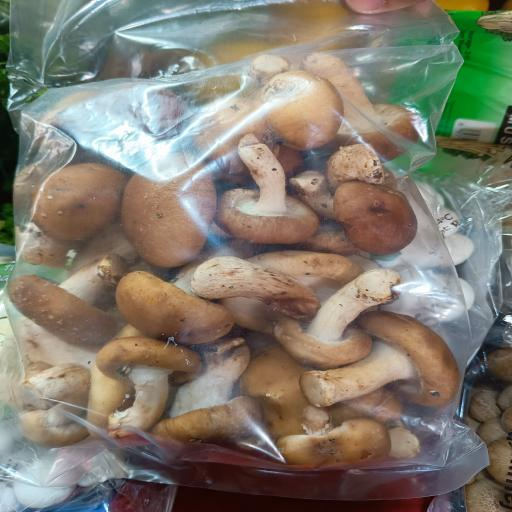Shiitake Mushroom: (303, 308, 459, 409), (101, 243, 255, 345), (275, 267, 414, 369), (158, 324, 274, 444), (116, 157, 226, 280), (88, 326, 205, 439), (14, 246, 135, 349), (220, 129, 320, 250), (26, 154, 127, 248), (269, 402, 402, 470), (318, 173, 416, 259)
